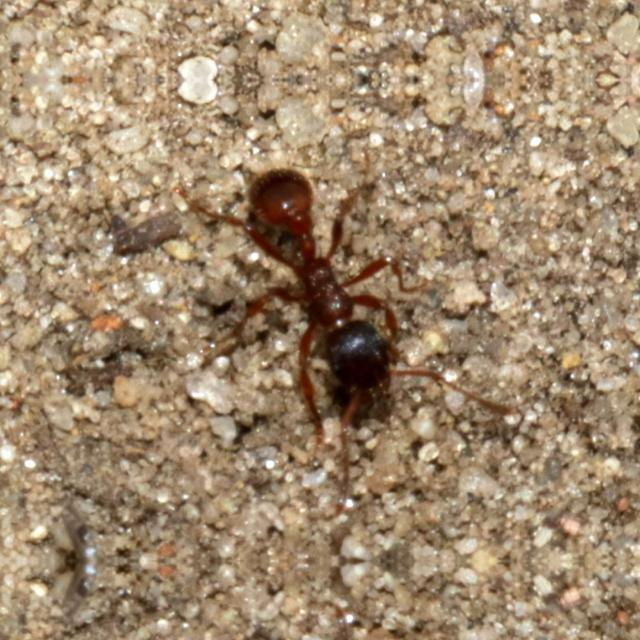Myrmica: (205, 135, 441, 427)
